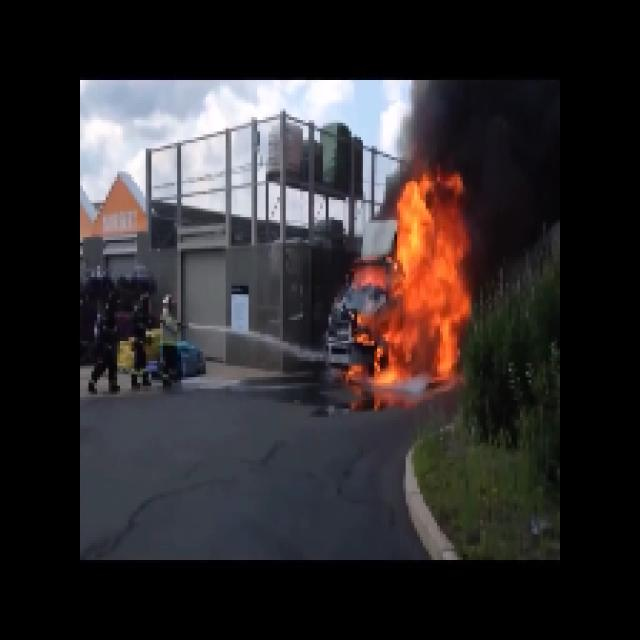fire: (384, 187, 466, 372)
